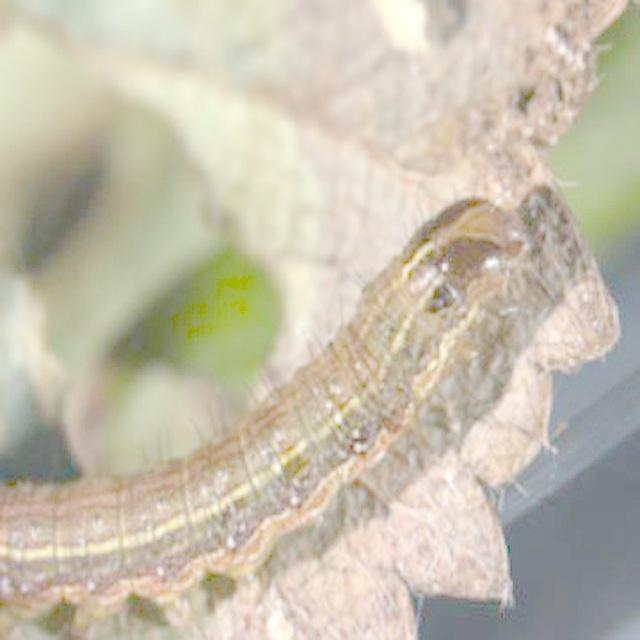gusano_cogollero: (0, 179, 615, 640)
